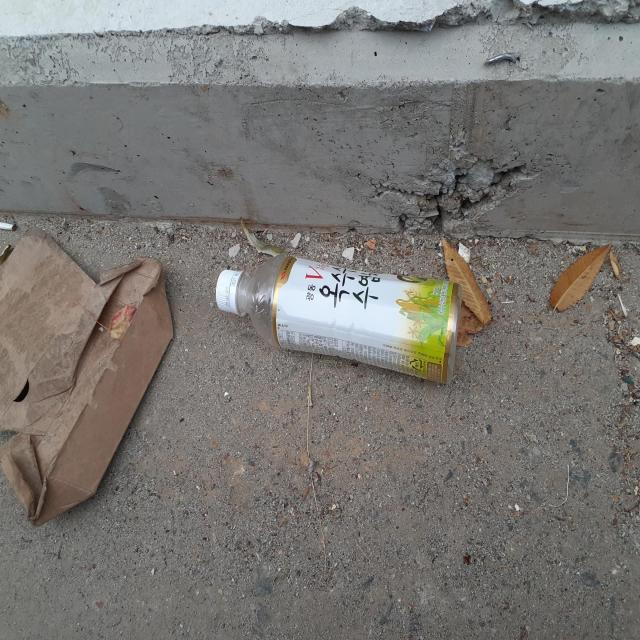plastic: (216, 252, 463, 383)
